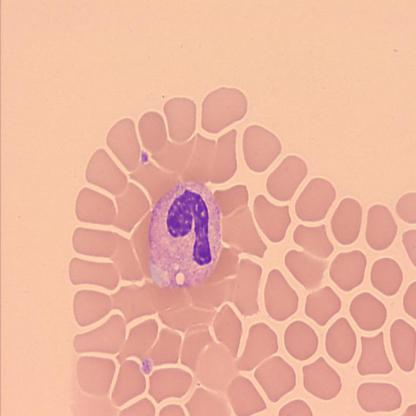Band Neutrophil: (146, 178, 222, 292)
